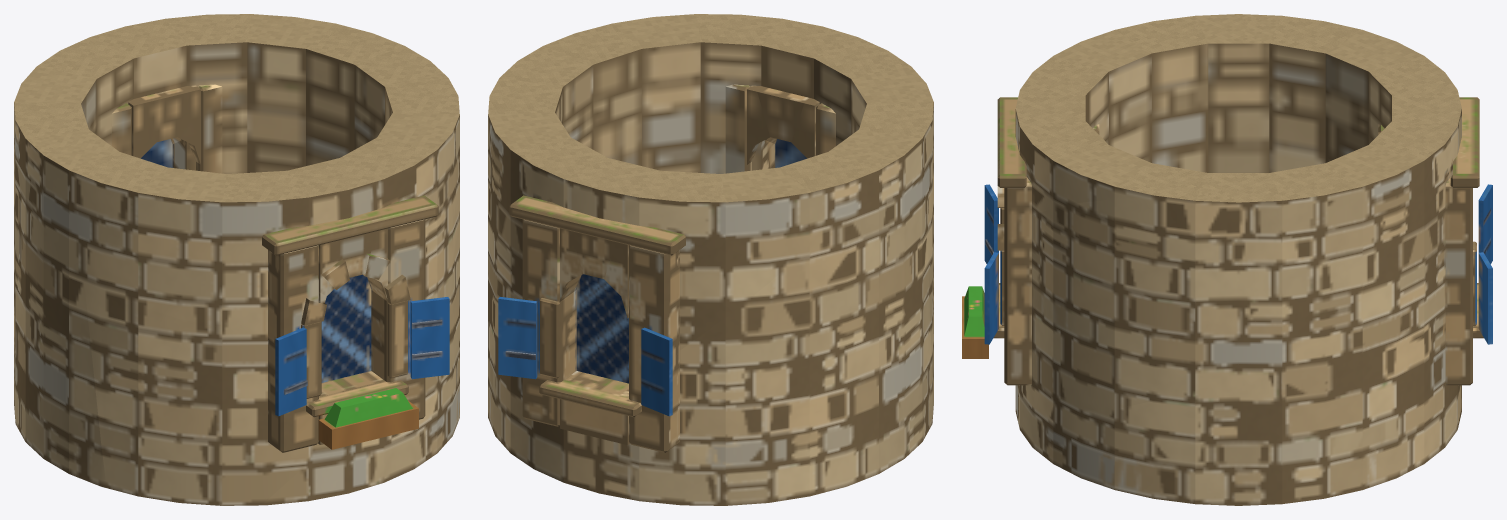
The model's file is Kit_Tower_RingWindow_Fractured.fbx.
3 views of the same model, side by side, from view 1: azimuth 30°, elevation 25°; view 2: azimuth 150°, elevation 25°; view 3: azimuth 270°, elevation 25° (orthographic).
Parts seen in each view (by area): view 1: Kit_Tower_RingWindow_frag_04, Kit_Tower_RingWindow_frag_06, Kit_Tower_RingWindow_frag_03, Kit_Tower_RingWindow_frag_01, Kit_Tower_RingWindow_frag_07, Kit_Tower_RingWindow_frag_05, Kit_Tower_RingWindow_frag_02; view 2: Kit_Tower_RingWindow_frag_07, Kit_Tower_RingWindow_frag_06, Kit_Tower_RingWindow_frag_04, Kit_Tower_RingWindow_frag_02, Kit_Tower_RingWindow_frag_01, Kit_Tower_RingWindow_frag_03; view 3: Kit_Tower_RingWindow_frag_02, Kit_Tower_RingWindow_frag_06, Kit_Tower_RingWindow_frag_01, Kit_Tower_RingWindow_frag_04, Kit_Tower_RingWindow_frag_05, Kit_Tower_RingWindow_frag_07, Kit_Tower_RingWindow_frag_03.
Boxes of the visible parts, bbox=[...] form: Kit_Tower_RingWindow_frag_04: bbox=[44, 74, 459, 339]; Kit_Tower_RingWindow_frag_06: bbox=[14, 14, 442, 172]; Kit_Tower_RingWindow_frag_03: bbox=[83, 278, 337, 505]; Kit_Tower_RingWindow_frag_01: bbox=[306, 73, 459, 449]; Kit_Tower_RingWindow_frag_07: bbox=[14, 140, 106, 487]; Kit_Tower_RingWindow_frag_05: bbox=[261, 337, 459, 505]; Kit_Tower_RingWindow_frag_02: bbox=[217, 116, 380, 173]; Kit_Tower_RingWindow_frag_07: bbox=[617, 153, 932, 505]; Kit_Tower_RingWindow_frag_06: bbox=[488, 50, 882, 416]; Kit_Tower_RingWindow_frag_04: bbox=[540, 14, 933, 231]; Kit_Tower_RingWindow_frag_02: bbox=[488, 110, 641, 498]; Kit_Tower_RingWindow_frag_01: bbox=[536, 38, 806, 173]; Kit_Tower_RingWindow_frag_03: bbox=[927, 215, 933, 418]; Kit_Tower_RingWindow_frag_02: bbox=[1174, 203, 1492, 505]; Kit_Tower_RingWindow_frag_06: bbox=[1207, 15, 1492, 276]; Kit_Tower_RingWindow_frag_01: bbox=[962, 197, 1208, 410]; Kit_Tower_RingWindow_frag_04: bbox=[997, 14, 1246, 215]; Kit_Tower_RingWindow_frag_05: bbox=[1015, 385, 1183, 502]; Kit_Tower_RingWindow_frag_07: bbox=[1199, 14, 1344, 172]; Kit_Tower_RingWindow_frag_03: bbox=[984, 144, 1202, 263].
Size of what is drawn, in the model's own units: 4 by 3 by 4.76.
2 materials, 2 textured.
